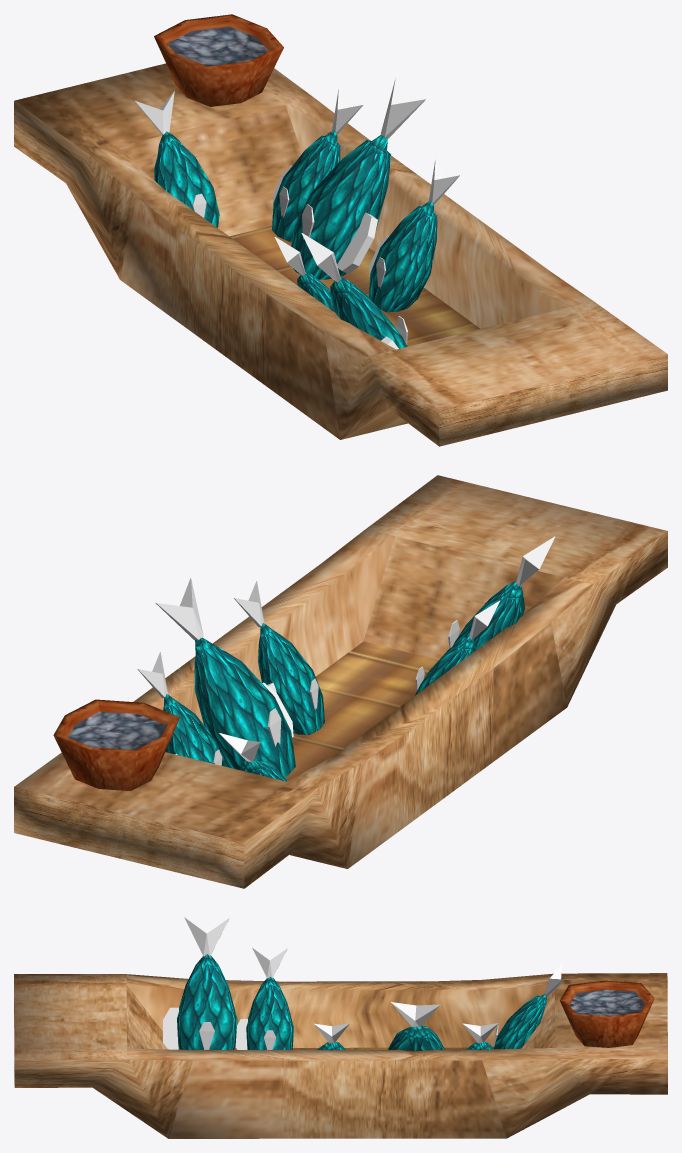
The model's file is canoe_fisher.dae.
3 renders of one model, top to bottom at view 1: azimuth 30°, elevation 25°; view 2: azimuth 150°, elevation 25°; view 3: azimuth 270°, elevation 25°, orthographic. The views are drawn at different scales.
Visible parts, largest first — view 1: canoe_fisher; view 2: canoe_fisher; view 3: canoe_fisher.
Boxes of the visible parts, box(x1,y1,x2,y2) form: canoe_fisher: box(14, 14, 667, 446); canoe_fisher: box(14, 475, 667, 888); canoe_fisher: box(14, 917, 667, 1138).
Bounding box in the file's own units: 2.2 × 6.86 × 1.6.
